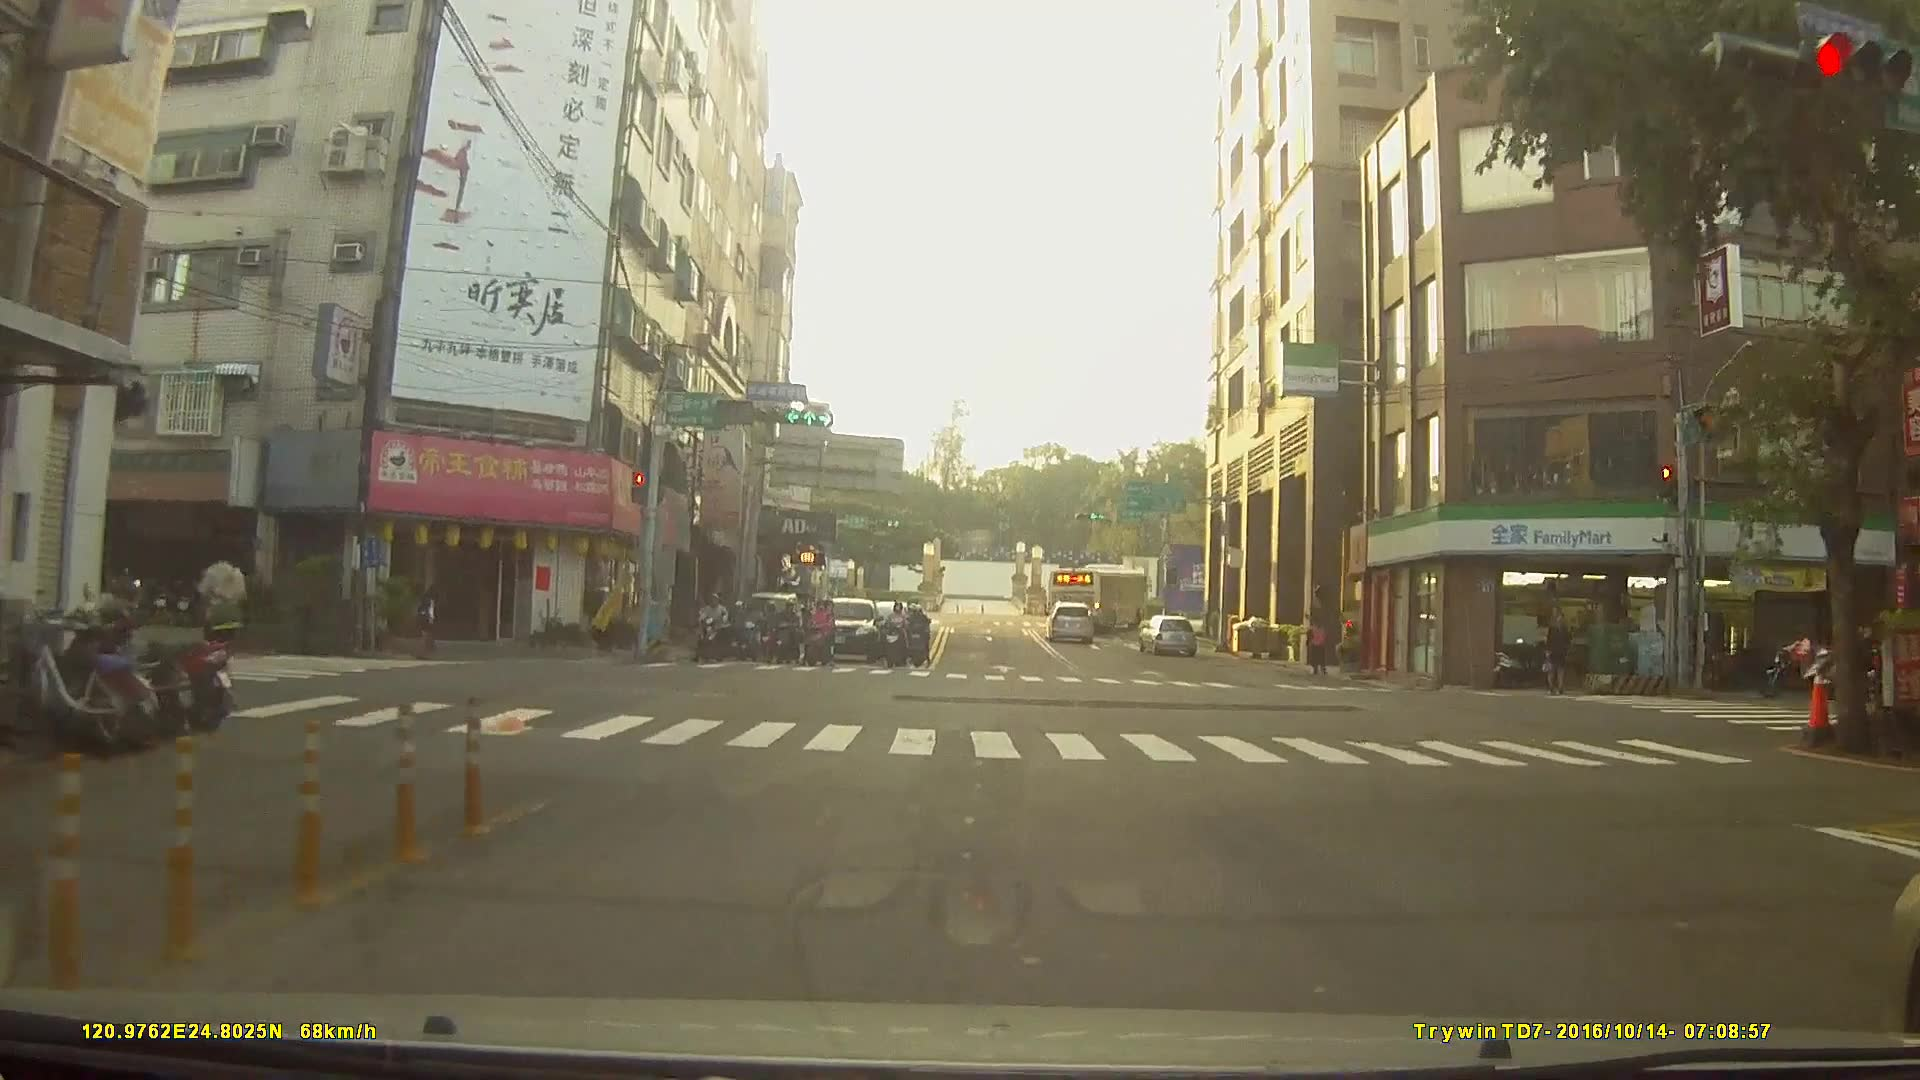pedestrian: (192, 533, 255, 696), (416, 588, 449, 662), (1545, 614, 1575, 697), (1303, 612, 1330, 675)
rider: (695, 591, 731, 661), (806, 600, 839, 674), (770, 602, 804, 667), (906, 604, 934, 672), (736, 596, 766, 657), (885, 606, 910, 676)
vehicle: (1045, 560, 1151, 628), (811, 593, 883, 664), (1134, 615, 1197, 657), (1044, 599, 1095, 644)
